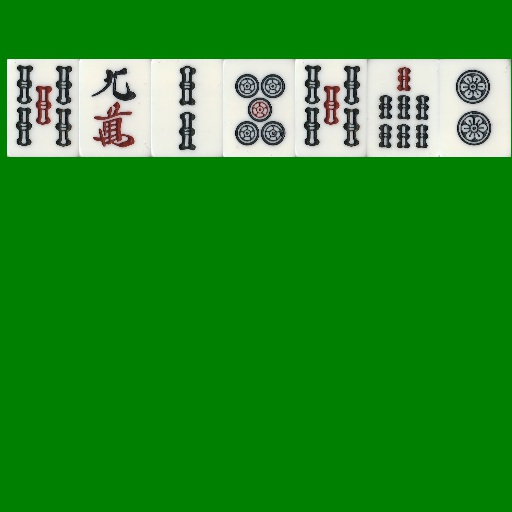2p: (439, 59, 511, 157)
2s: (151, 59, 223, 157)
5p: (223, 59, 295, 157)
5s: (7, 59, 79, 157), (295, 59, 367, 157)
7s: (367, 59, 439, 157)
9m: (79, 59, 151, 157)
